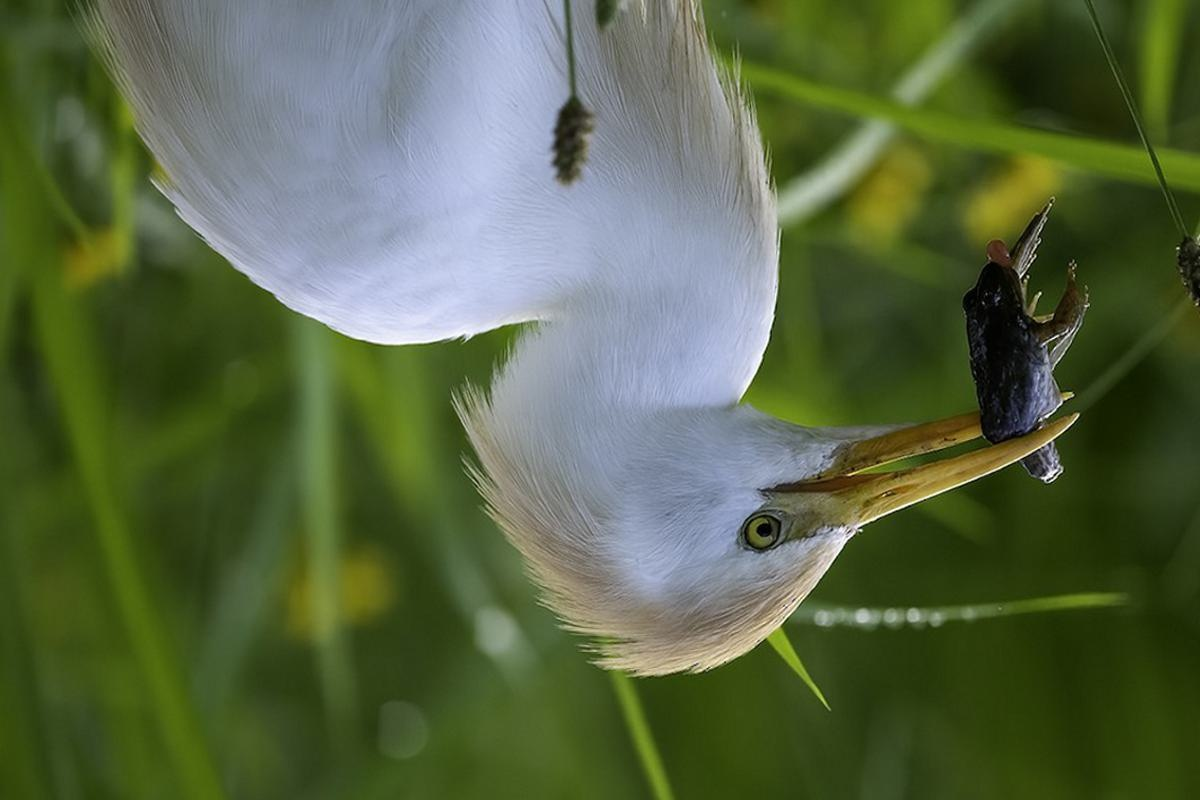egret: (54, 1, 1097, 677)
